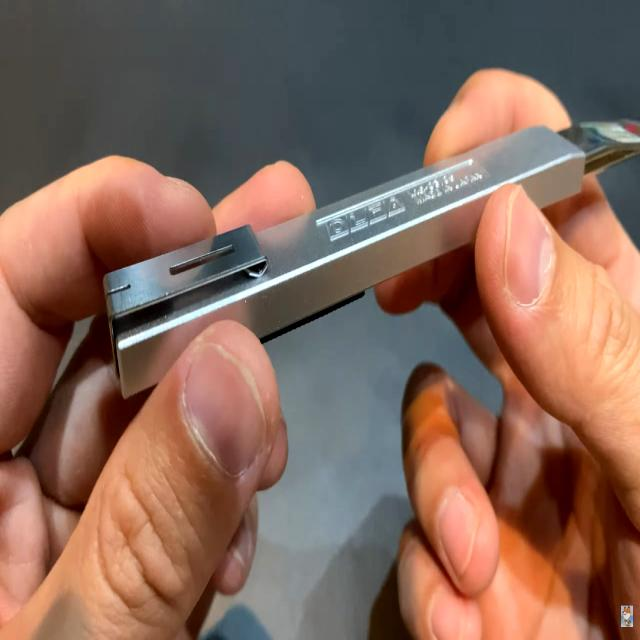cutter: (5, 59, 640, 479)
